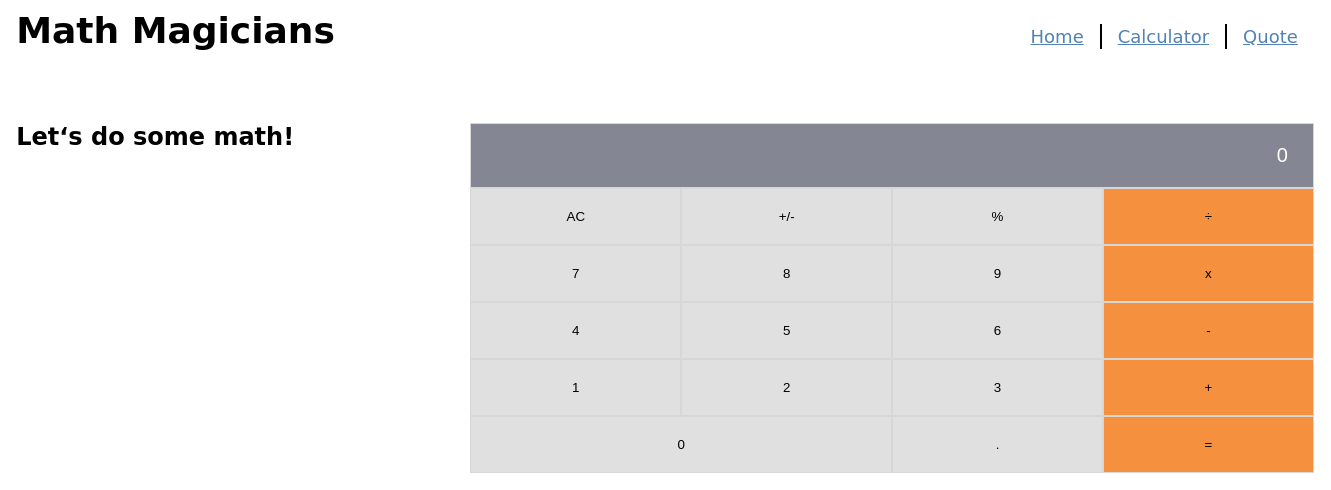
Test case: Test Navigation Bar › Click on "Home" should display Home Page
The image size is (1331, 490).
What coordinates should you click on to do the following:
click the link "Home"
I would click on:
 (1057, 36)
Its box is [1030,26,1084,47].
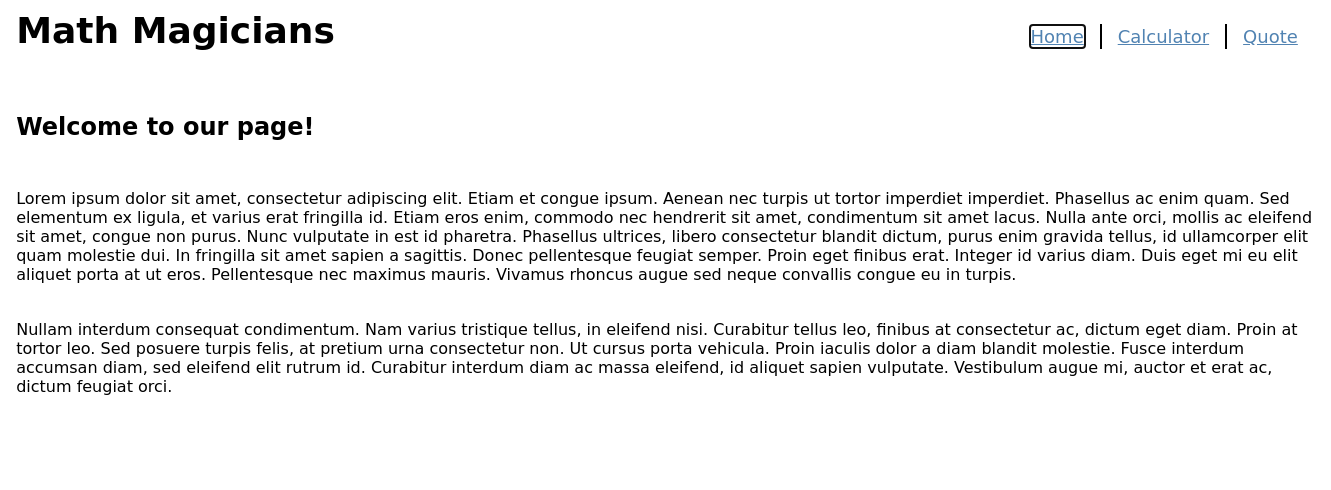
Check: the heading "Welcome to our page!" is shown, box [16,113,314,141]
